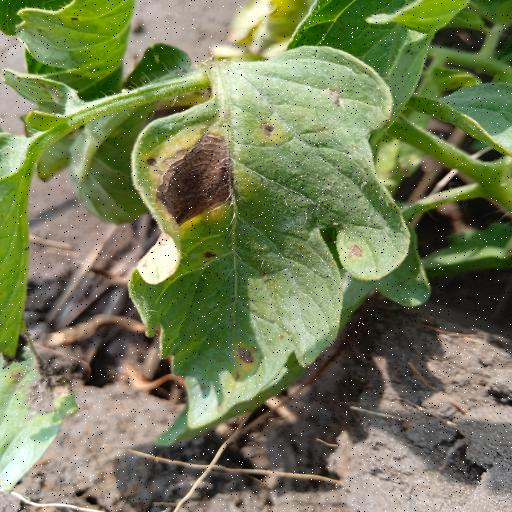Tomato_Brown_Spots: (129, 44, 413, 432)
